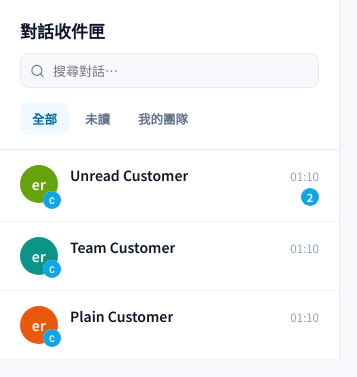
Test: Inbox conversation list › shows unread and team-assigned conversations in their tabs
This screenshot has width=357, height=377.
Click the button "未讀".
click(98, 118)  # box [73,102,122,135]
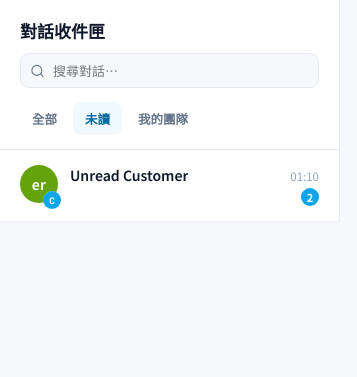
Check: the text "Unread Customer" is shown, box [70,165,188,185]
Check: the text "Team Customer" is gone
Click the button "我的團隊".
click(163, 118)  # box [126,102,200,135]
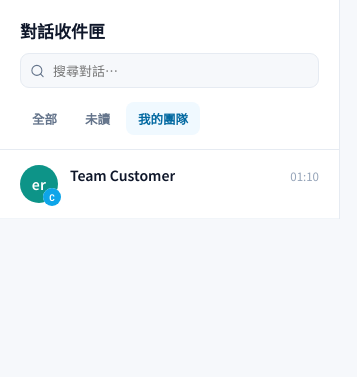
Check: the text "Team Customer" is shown, box [70,165,175,185]
Check: the text "Unread Customer" is gone
